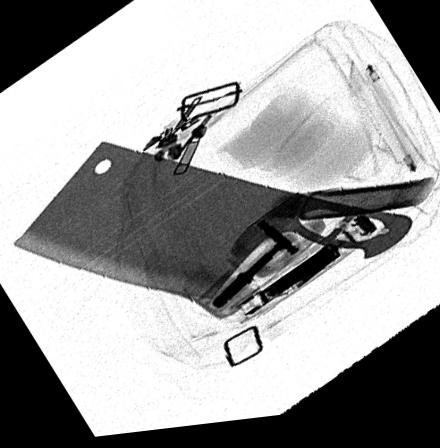Knife: (11, 141, 414, 306)
